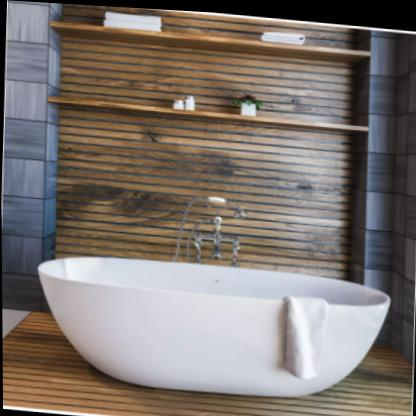Wall Panel: (49, 2, 370, 282)
